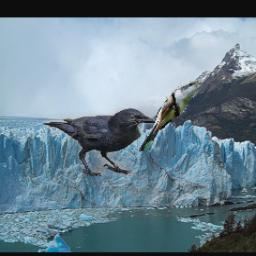Crow: (42, 108, 156, 176)
Cuckoo: (139, 82, 201, 152)
